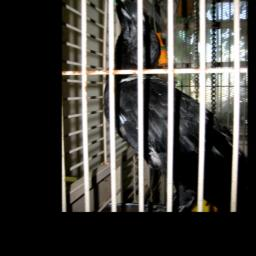Crow: (103, 0, 247, 212)
